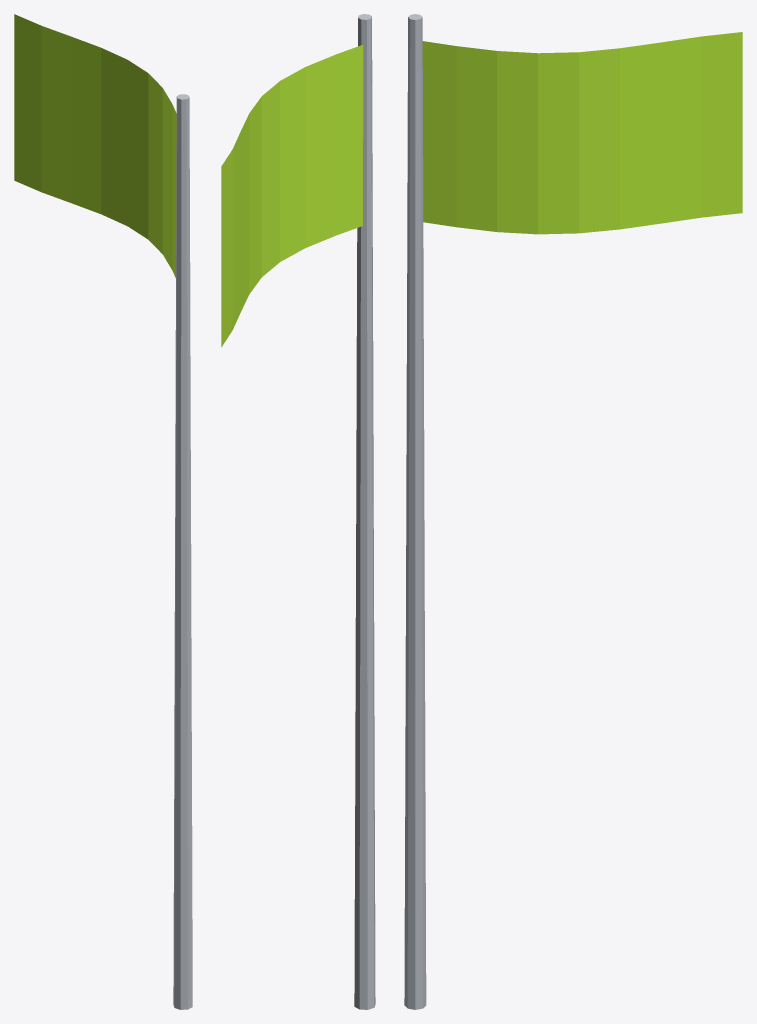
File: flagpole_c.glb
3 views of the same model, side by side, from view 1: azimuth 30°, elevation 25°; view 2: azimuth 150°, elevation 25°; view 3: azimuth 270°, elevation 25° (orthographic). The views are drawn at different scales.
Parts seen in each view (by area): view 1: flagpole; view 2: flagpole; view 3: flagpole.
Part boxes in pixels (x1,y1,x2,y2): flagpole: (14,14,192,1009); flagpole: (221,14,375,1009); flagpole: (404,14,742,1009).
Size of the model in its own units: 0.2768 by 6 by 1.86.
